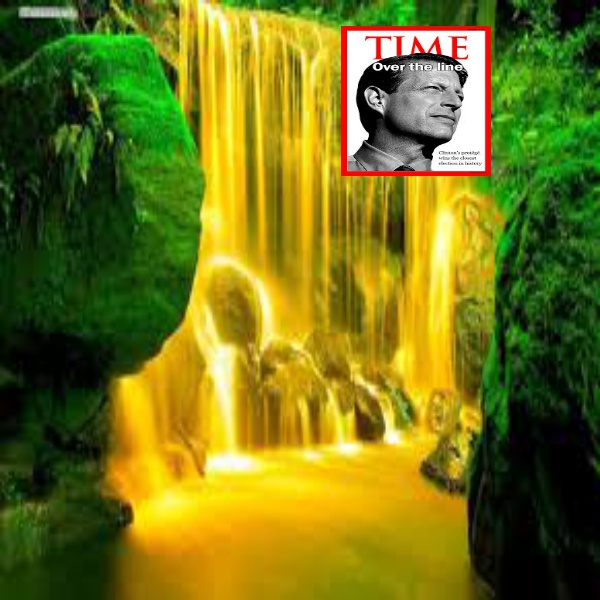time_cover: (327, 8, 497, 175)
